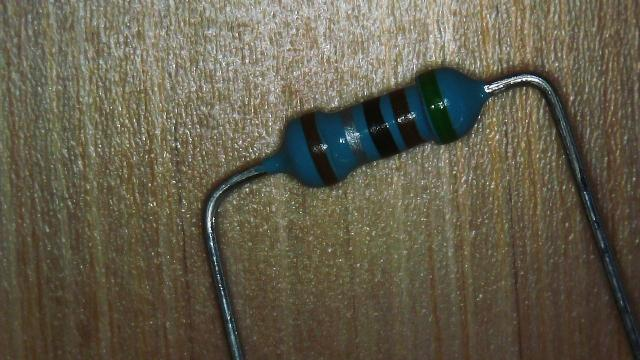black: (362, 98, 398, 158)
brown: (300, 112, 338, 185), (388, 88, 424, 148)
green: (419, 70, 458, 142)
resistor: (270, 58, 494, 197)
silver: (340, 107, 366, 164)
